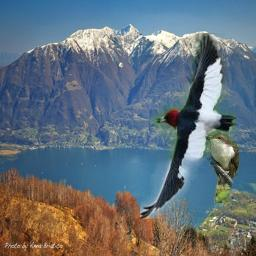Cuckoo: (203, 131, 239, 203)
Woodpecker: (140, 33, 236, 219)
